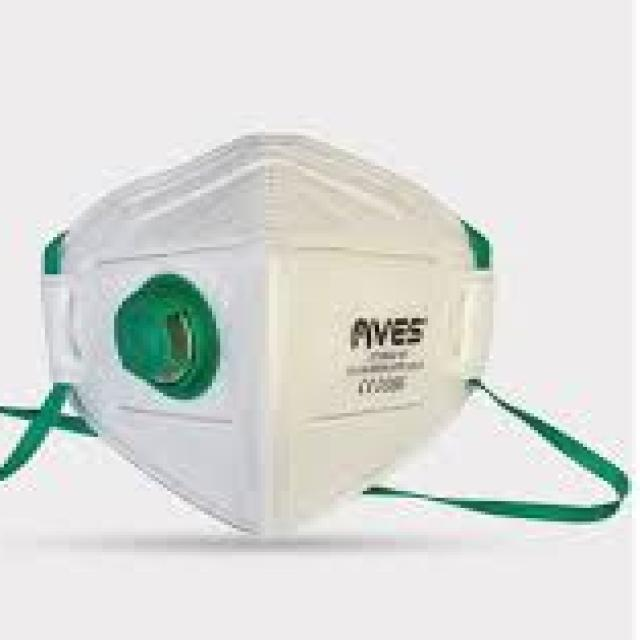organic: (0, 129, 588, 582)
